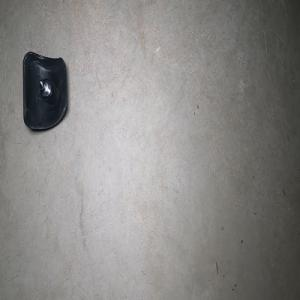LuggagePart: (22, 50, 68, 132)
